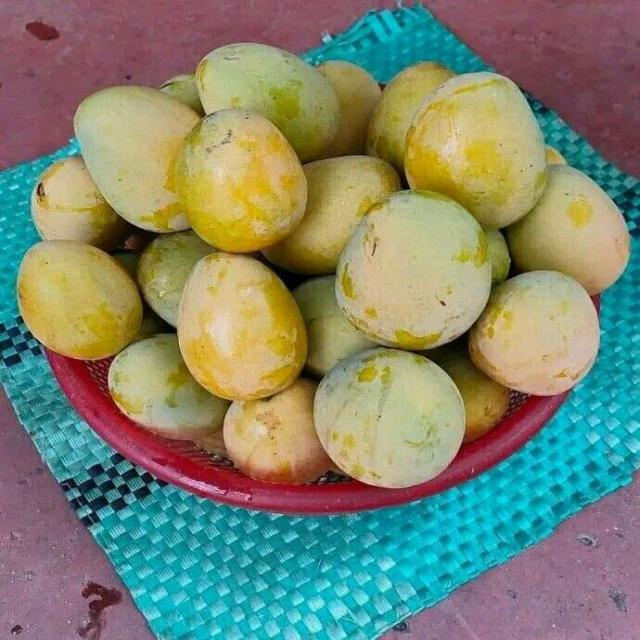mango: (336, 190, 490, 350), (403, 71, 546, 228), (314, 348, 465, 488), (173, 108, 307, 252), (177, 251, 306, 400), (74, 85, 199, 232), (196, 43, 339, 162), (262, 155, 400, 275), (505, 165, 630, 295), (468, 271, 598, 395), (18, 241, 142, 359), (108, 333, 229, 439), (224, 377, 331, 484), (32, 156, 129, 250), (427, 336, 510, 443), (292, 275, 377, 379), (137, 231, 216, 327), (317, 60, 380, 158)
